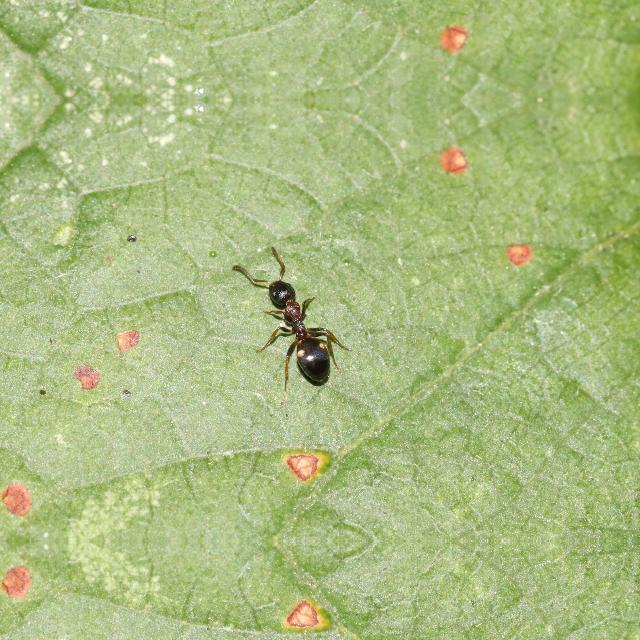Dolichoderus: (234, 255, 358, 390)
